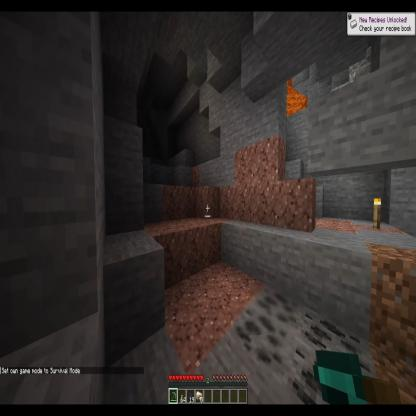coal ore: (295, 307, 380, 381), (232, 302, 292, 372), (250, 283, 304, 335)
